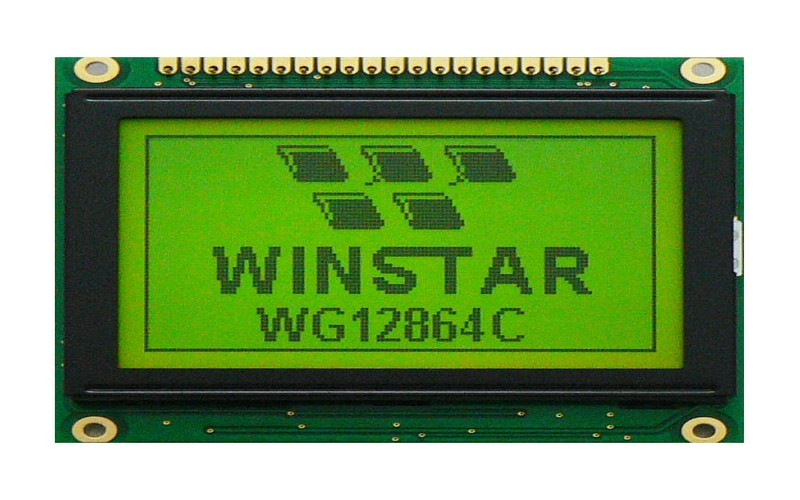LCD: (52, 78, 747, 426)
